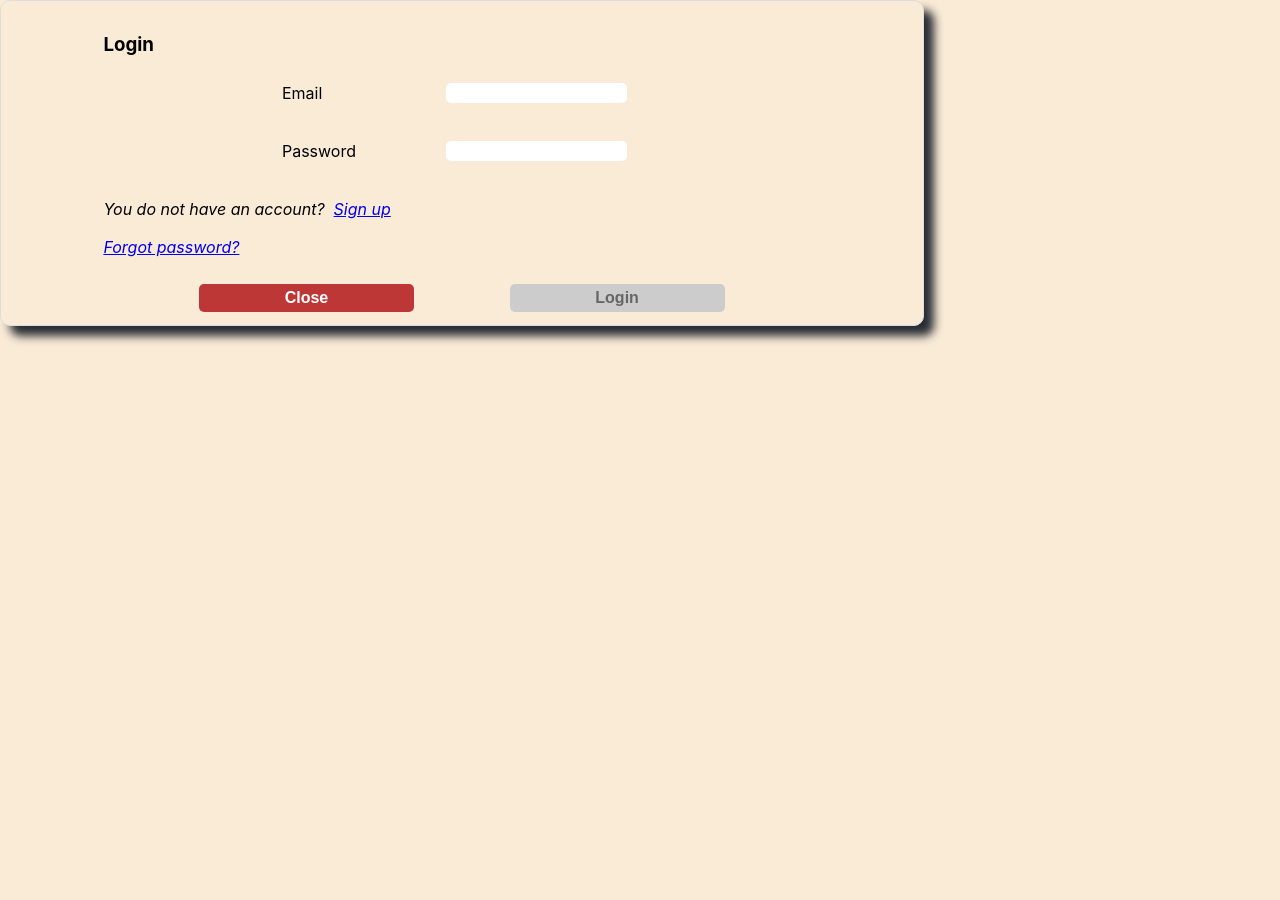
Test: Login › signs in and goes home
In the field labelled "Email": (537, 93) x1=446 y1=83 x2=627 y2=103, type "ash@pallet.town"
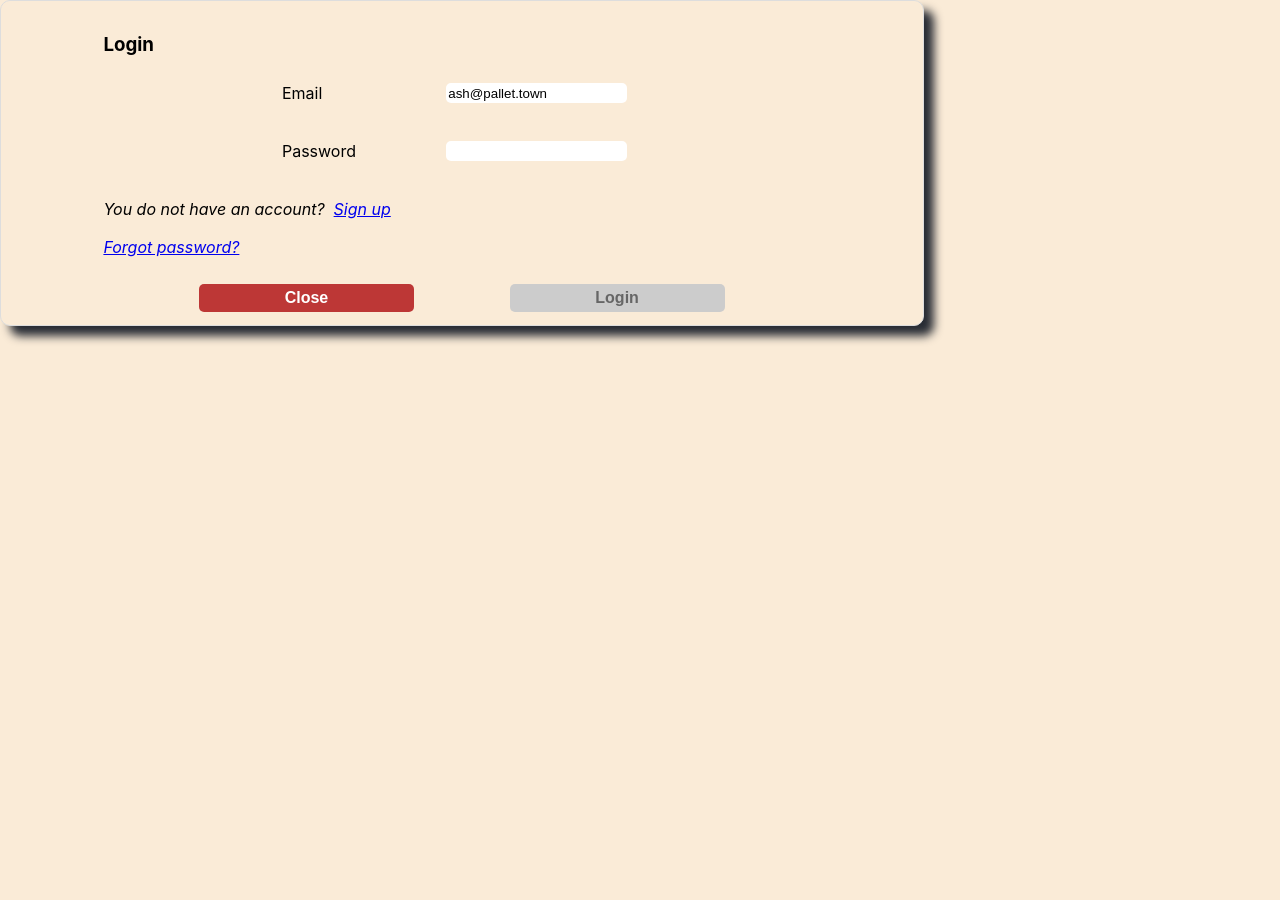
In the password field labelled "Password": (537, 151) x1=446 y1=141 x2=627 y2=161, type "secret"
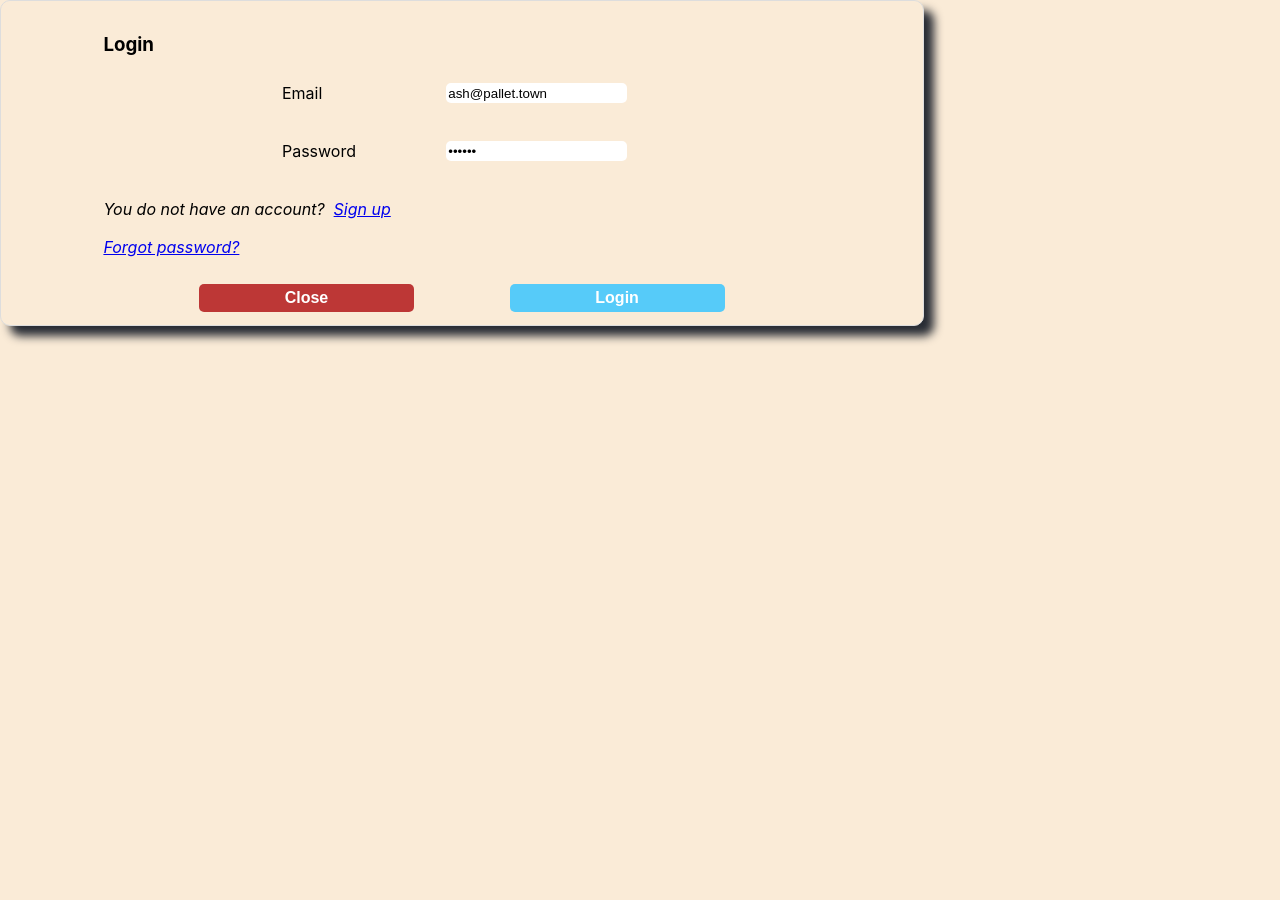
Click the button "Login": (617, 298) x1=510 y1=284 x2=725 y2=312
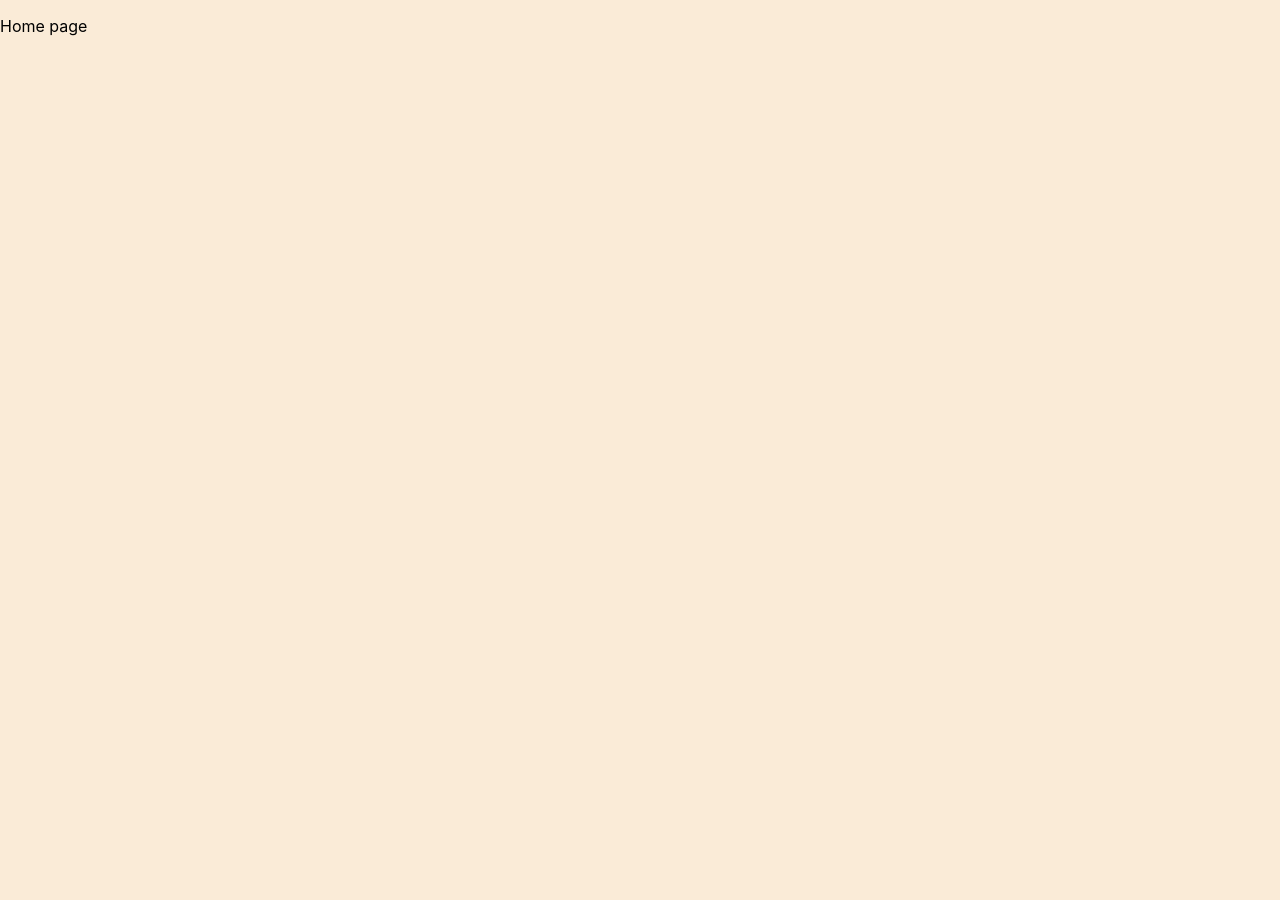
Now the text "Home page" is shown, box x1=0 y1=16 x2=87 y2=36
